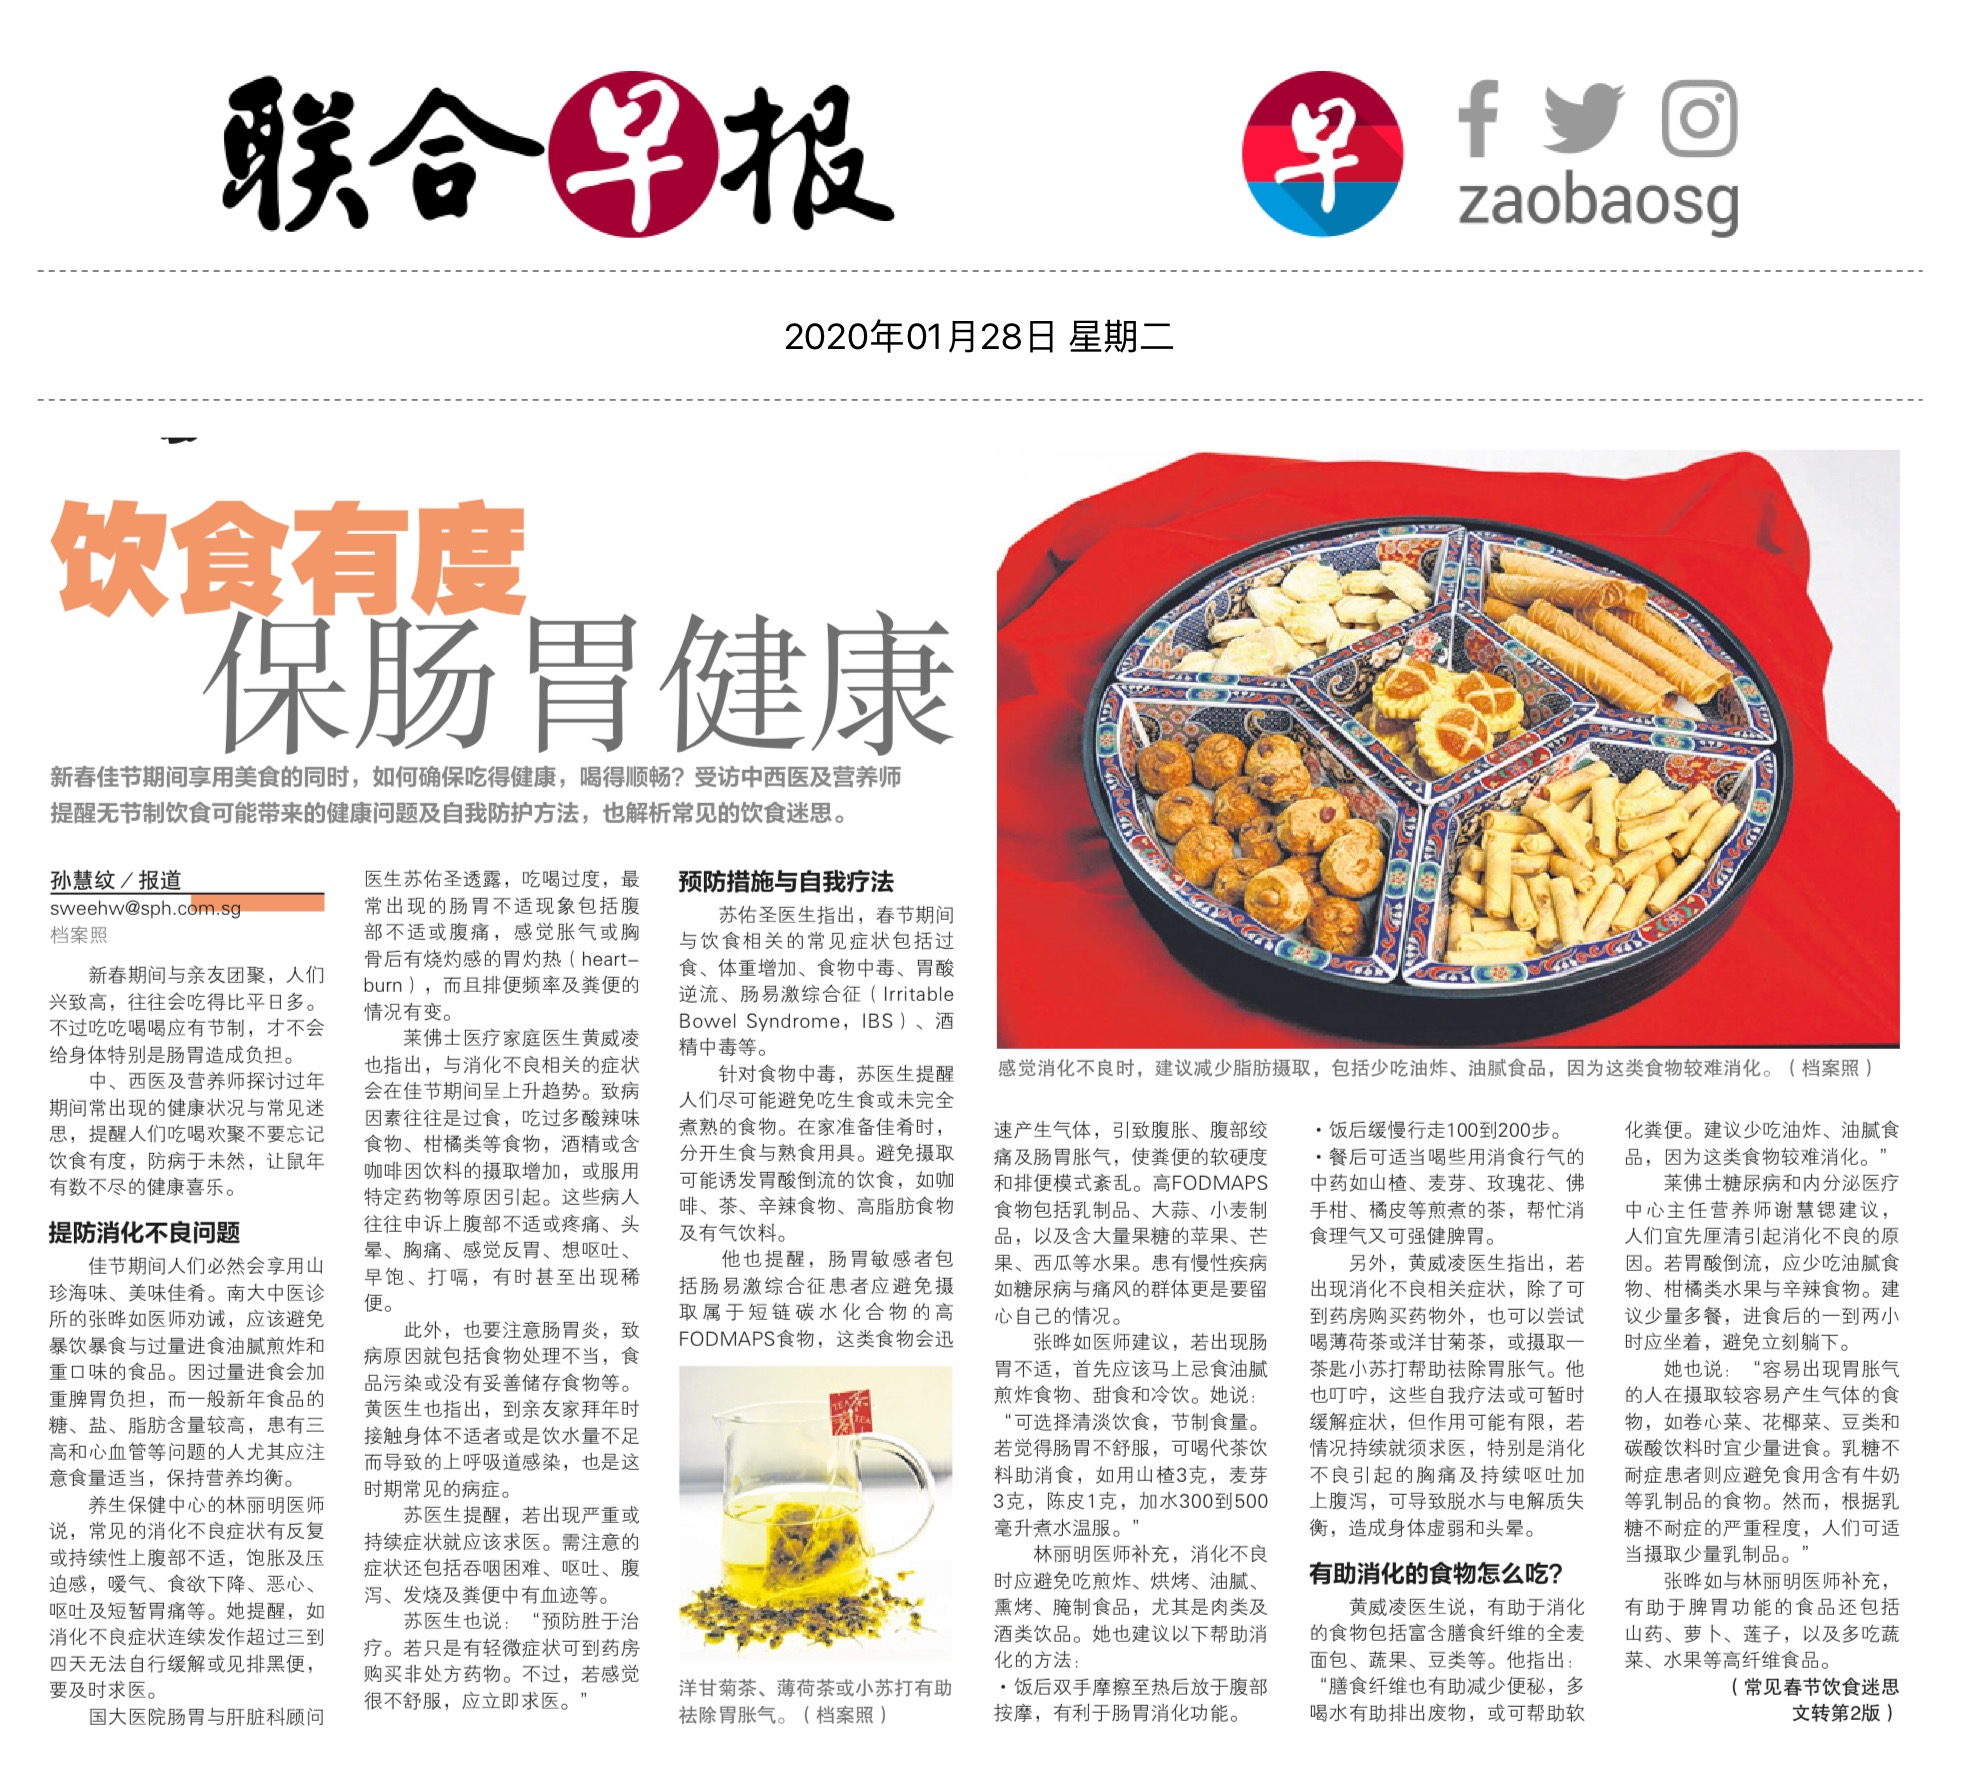heading_test: (43, 483, 960, 763)
